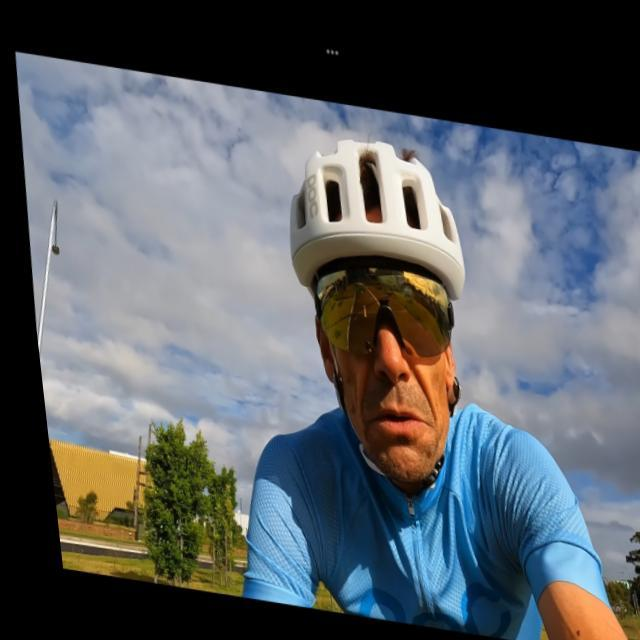Helmet: (285, 135, 471, 484)
